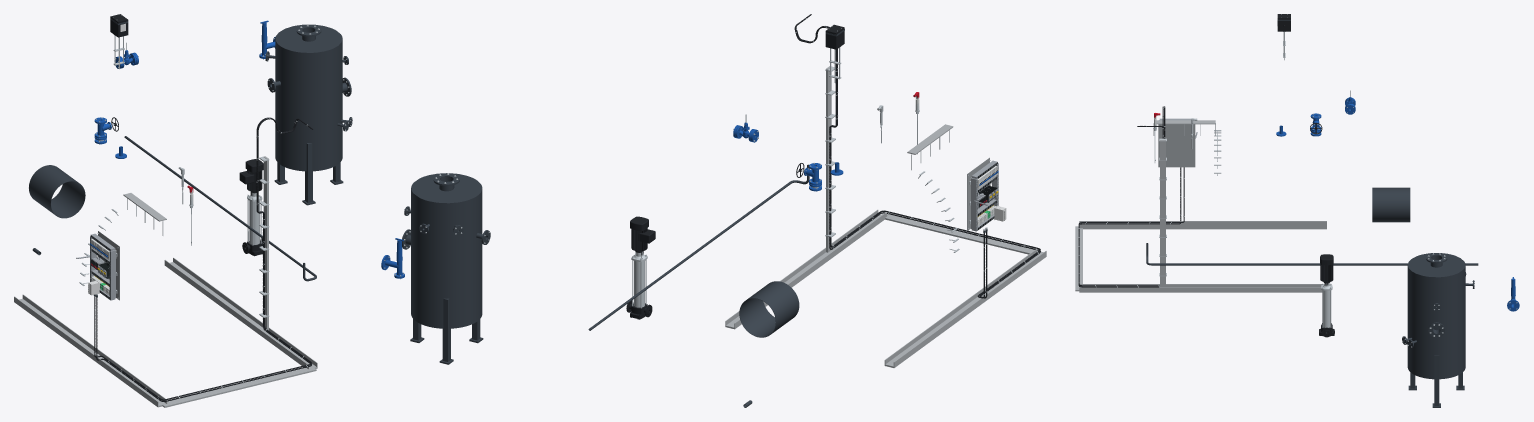
3 views of the same model, side by side, from view 1: azimuth 30°, elevation 25°; view 2: azimuth 150°, elevation 25°; view 3: azimuth 270°, elevation 25° (orthographic). The views are drawn at different scales.
Visible parts, largest first — view 1: separator_bdv60_5 / dark, cables / zinc, flue_spacer / dark, cabinet_interior / cabinet_interior_0.npz, wiring_pressure_switch_2 / black, wiring_pressure_switch_1 / black, tds_common / dark, pump_2 CAD solid 15, cables / steel, pump_2 CAD solid 2, gpz_drive / black; view 2: separator_bdv60_5 / dark, cables / zinc, flue_spacer / dark, cabinet_interior / cabinet_interior_0.npz, wiring_pressure_switch_1 / black, wiring_pressure_switch_2 / black, tds_common / dark, pump_2 CAD solid 15; view 3: separator_bdv60_5 / dark, cables / zinc, cabinet_interior / cabinet_interior_0.npz, flue_spacer / dark, tds_common / dark, wiring_pressure_switch_2 / black, wiring_pressure_switch_1 / black.
Part boxes in pixels (x1,y1,x2,y2): separator_bdv60_5 / dark: (265, 24, 352, 205); cables / zinc: (14, 156, 317, 407); flue_spacer / dark: (29, 165, 85, 218); cabinet_interior / cabinet_interior_0.npz: (76, 231, 119, 300); wiring_pressure_switch_2 / black: (94, 118, 311, 400); wiring_pressure_switch_1 / black: (96, 117, 313, 401); tds_common / dark: (124, 136, 316, 281); pump_2 CAD solid 15: (239, 159, 263, 192); cables / steel: (79, 156, 269, 317); pump_2 CAD solid 2: (249, 200, 259, 244); gpz_drive / black: (110, 14, 128, 37); separator_bdv60_5 / dark: (402, 173, 490, 364); cables / zinc: (725, 66, 1046, 367); flue_spacer / dark: (739, 281, 799, 337); cabinet_interior / cabinet_interior_0.npz: (967, 157, 998, 231); wiring_pressure_switch_1 / black: (794, 14, 1040, 298); wiring_pressure_switch_2 / black: (796, 22, 1040, 298); tds_common / dark: (588, 164, 809, 330); pump_2 CAD solid 15: (630, 216, 655, 251); separator_bdv60_5 / dark: (1402, 253, 1474, 407); cables / zinc: (1075, 120, 1326, 292); cabinet_interior / cabinet_interior_0.npz: (1158, 118, 1197, 167); flue_spacer / dark: (1372, 187, 1410, 222); tds_common / dark: (1146, 243, 1478, 265); wiring_pressure_switch_2 / black: (1078, 106, 1184, 286); wiring_pressure_switch_1 / black: (1078, 106, 1181, 287).
Bounding box in the file's own units: 5.41 × 3.82 × 5.86.
